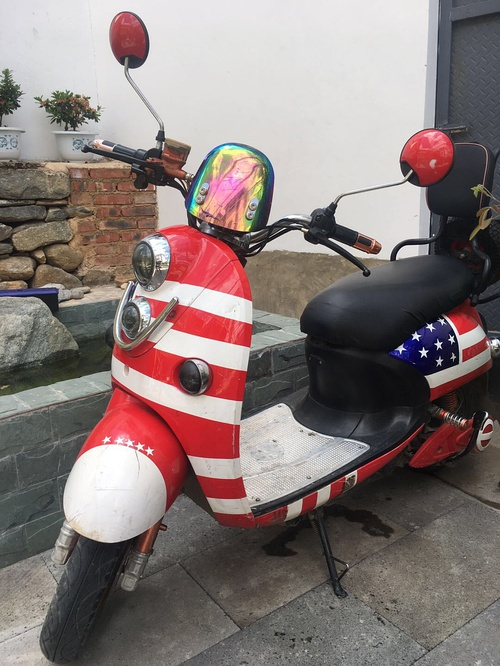电动车: (34, 7, 500, 665)
